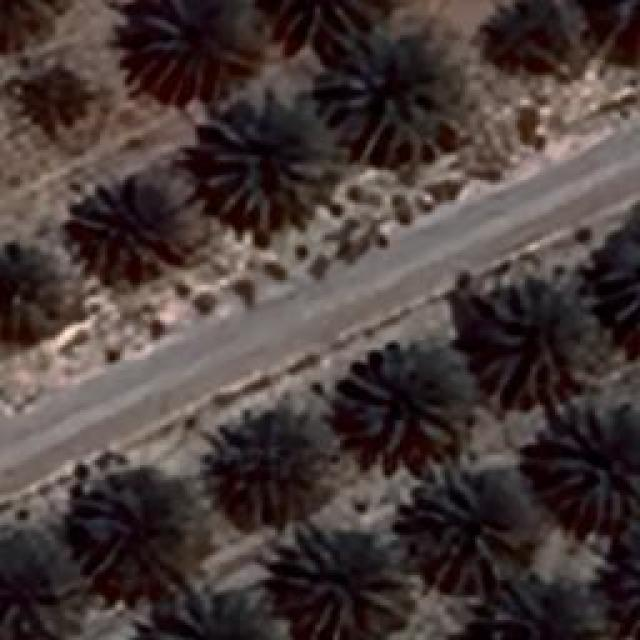PalmTree: (55, 45, 541, 99), (198, 95, 338, 230), (320, 27, 462, 155), (475, 275, 603, 403), (282, 522, 410, 636), (534, 400, 638, 525), (342, 350, 470, 450), (206, 412, 319, 510), (136, 0, 256, 90), (76, 182, 186, 270), (421, 486, 521, 579), (75, 482, 170, 572), (0, 521, 70, 634), (480, 582, 610, 640), (0, 242, 70, 326), (152, 595, 266, 640), (274, 0, 382, 45), (598, 230, 638, 330), (581, 0, 640, 50), (615, 519, 640, 634), (0, 0, 55, 45)
